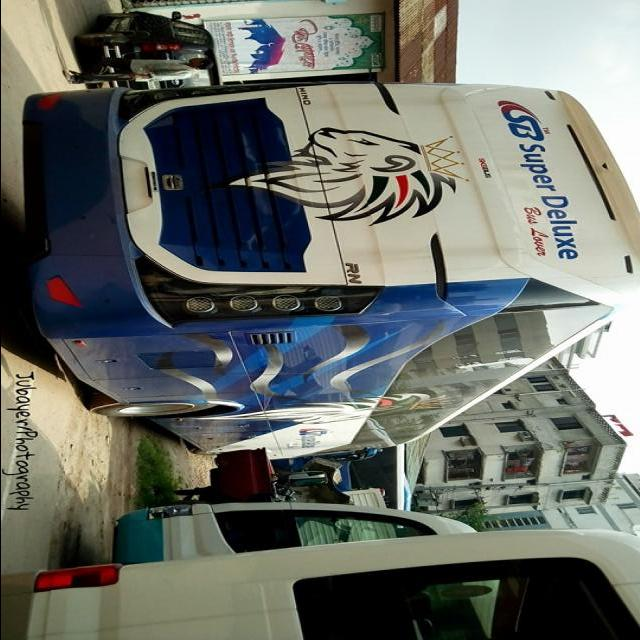bus: (22, 81, 640, 462)
